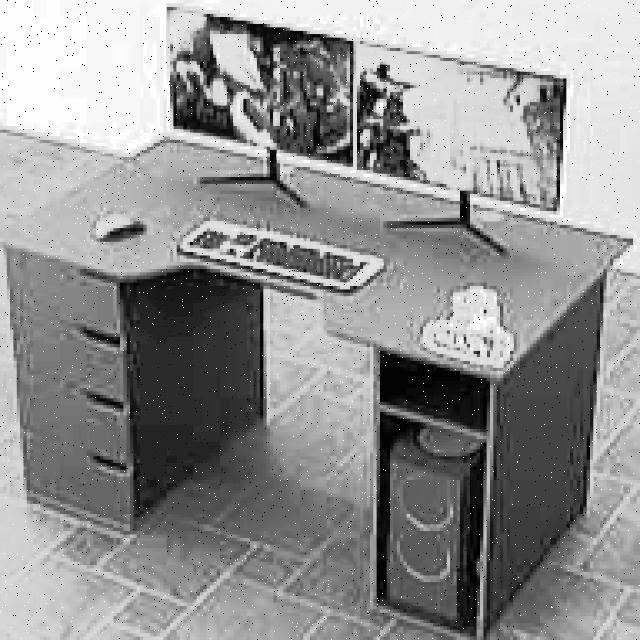table: (0, 133, 637, 640)
